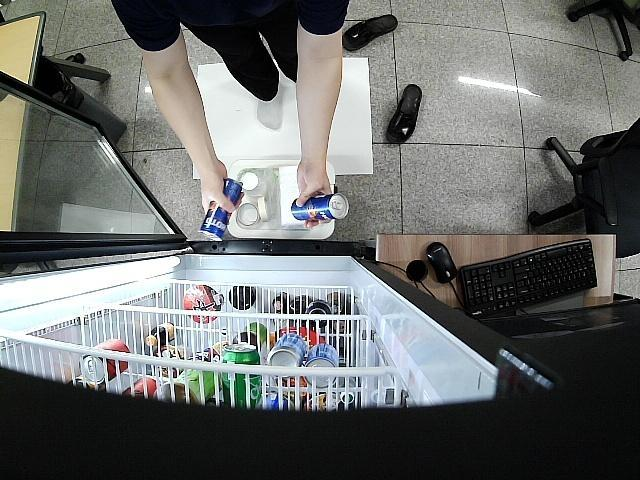16_hot6: (200, 176, 244, 246), (288, 194, 350, 222)
